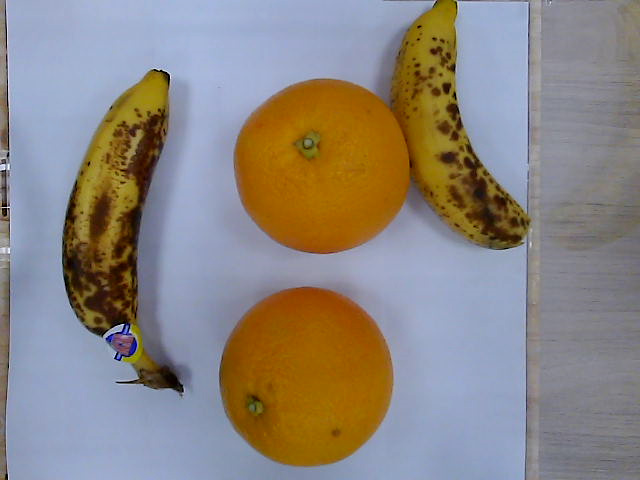fresh_orange: (233, 79, 414, 256), (219, 287, 394, 467)
rotten_banana: (62, 69, 186, 397), (392, 1, 532, 250)
